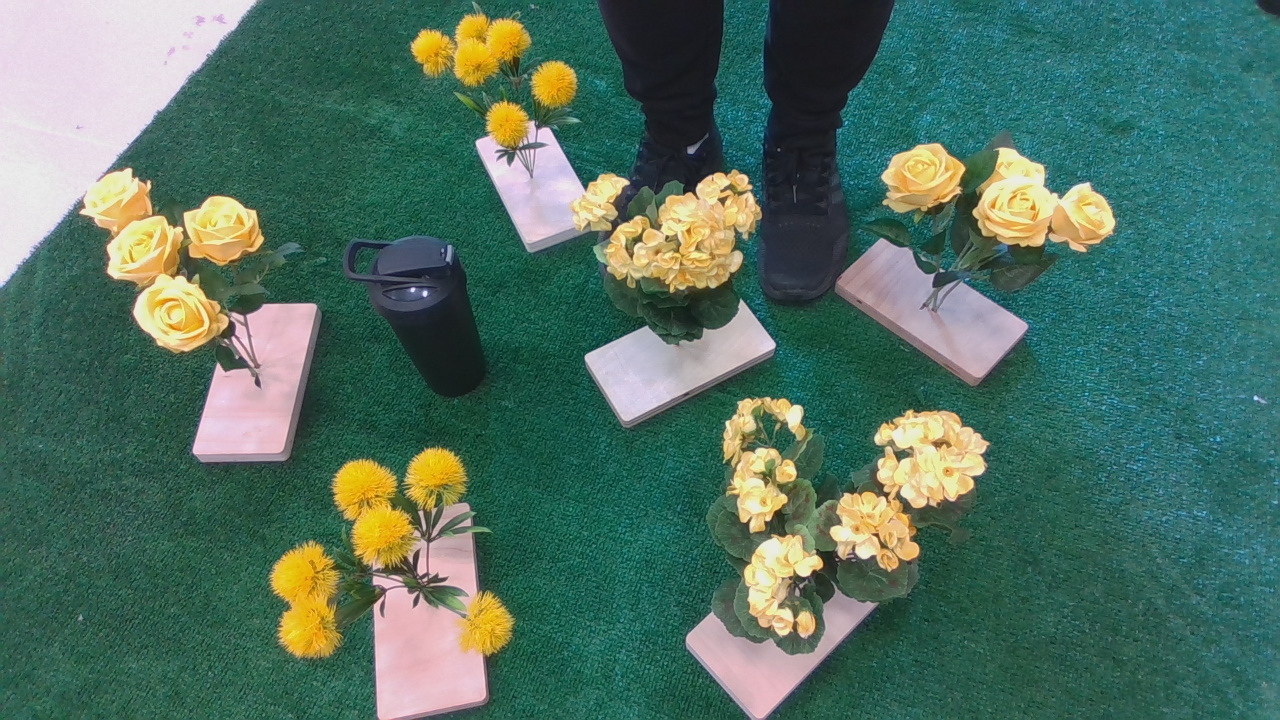dandelion: (254, 446, 538, 672), (401, 11, 597, 172)
geranium: (714, 393, 997, 662), (570, 173, 767, 345)
rose: (866, 125, 1122, 302), (74, 166, 296, 368)
